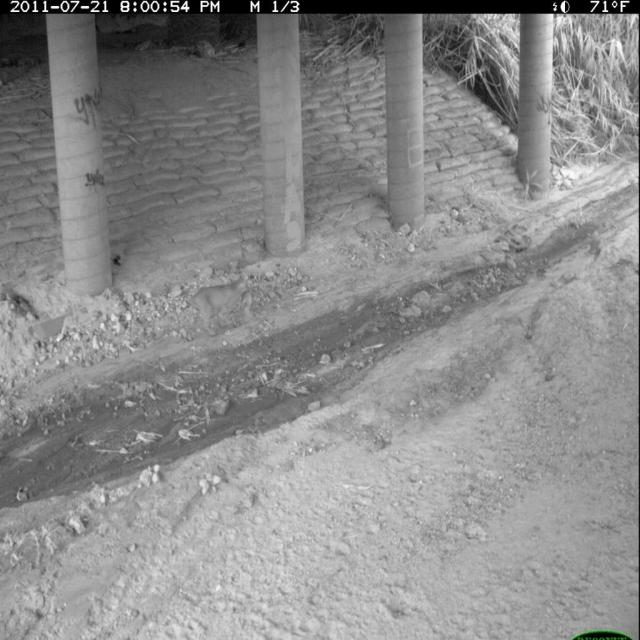bobcat: (184, 268, 257, 348)
rabbit: (240, 287, 256, 323)
